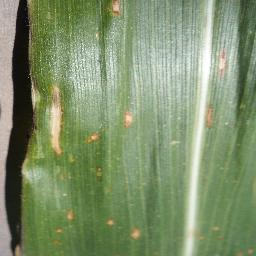Gray_Leaf_Spot: (19, 0, 39, 130), (45, 81, 66, 161), (20, 139, 32, 256), (210, 41, 230, 82), (101, 0, 129, 23), (49, 167, 79, 188), (90, 156, 107, 188), (199, 99, 215, 130), (116, 108, 138, 130), (193, 228, 208, 256), (83, 130, 105, 146), (228, 96, 250, 111), (91, 27, 107, 47), (105, 213, 118, 237), (64, 205, 80, 224), (214, 220, 225, 247), (128, 224, 145, 241), (48, 238, 66, 253), (229, 247, 256, 256), (166, 137, 184, 148), (43, 224, 69, 231), (219, 120, 234, 132), (64, 151, 78, 162), (167, 112, 178, 126), (217, 159, 227, 173), (247, 120, 252, 133)
